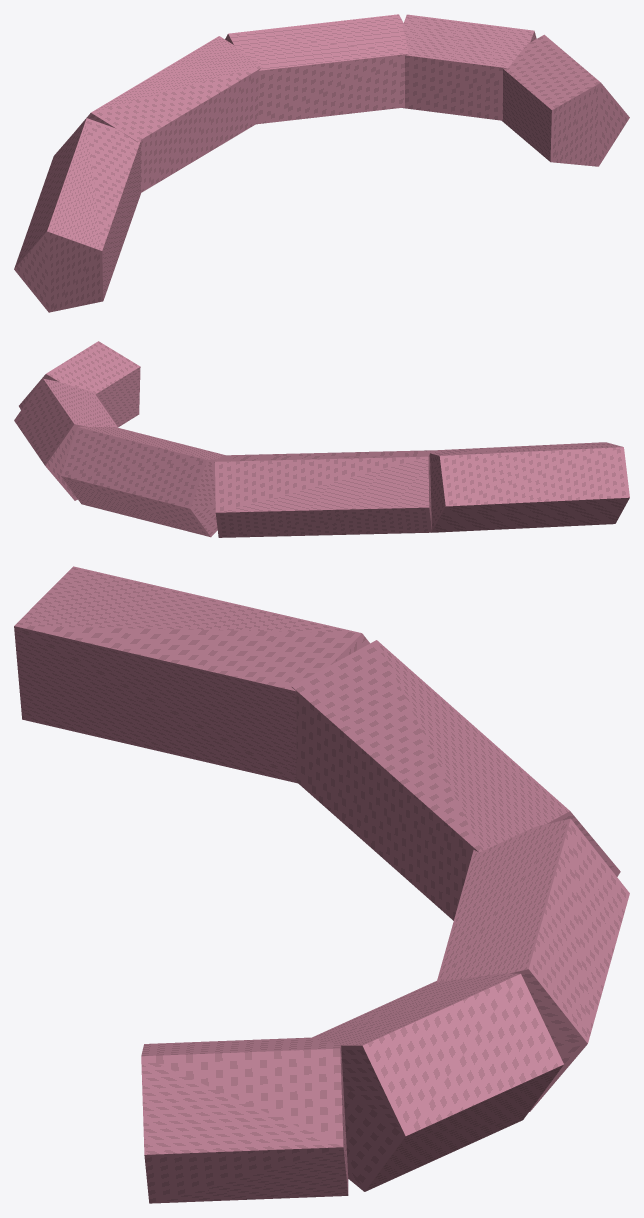
The model's file is faux_fur_cat_tail.glb.
3 views of the same model, one above another, from view 1: azimuth 30°, elevation 25°; view 2: azimuth 150°, elevation 25°; view 3: azimuth 270°, elevation 25° (orthographic). The views are drawn at different scales.
Visible parts, largest first — view 1: block_curled costume tail 0, block_curled costume tail 2, block_curled costume tail 1, block_curled costume tail 4, block_curled costume tail 3; view 2: block_curled costume tail 1, block_curled costume tail 0, block_curled costume tail 2, block_curled costume tail 3, block_curled costume tail 4; view 3: block_curled costume tail 0, block_curled costume tail 1, block_curled costume tail 3, block_curled costume tail 4, block_curled costume tail 2.
Part boxes in pixels (left/top/right/bottom): block_curled costume tail 0: left=14, top=118, right=140, bottom=312; block_curled costume tail 2: left=225, top=14, right=409, bottom=124; block_curled costume tail 1: left=77, top=36, right=262, bottom=192; block_curled costume tail 4: left=502, top=34, right=629, bottom=166; block_curled costume tail 3: left=402, top=14, right=536, bottom=120; block_curled costume tail 1: left=215, top=450, right=431, bottom=537; block_curled costume tail 0: left=430, top=442, right=629, bottom=532; block_curled costume tail 2: left=61, top=426, right=225, bottom=537; block_curled costume tail 3: left=14, top=378, right=117, bottom=500; block_curled costume tail 4: left=19, top=341, right=140, bottom=427; block_curled costume tail 0: left=14, top=566, right=369, bottom=783; block_curled costume tail 1: left=291, top=640, right=620, bottom=920; block_curled costume tail 3: left=310, top=973, right=563, bottom=1191; block_curled costume tail 4: left=141, top=1037, right=348, bottom=1203; block_curled costume tail 2: left=437, top=818, right=629, bottom=1111.
Size of the model in its own units: 0.1751 by 0.0303 by 0.0872.
1 material, 1 textured.
